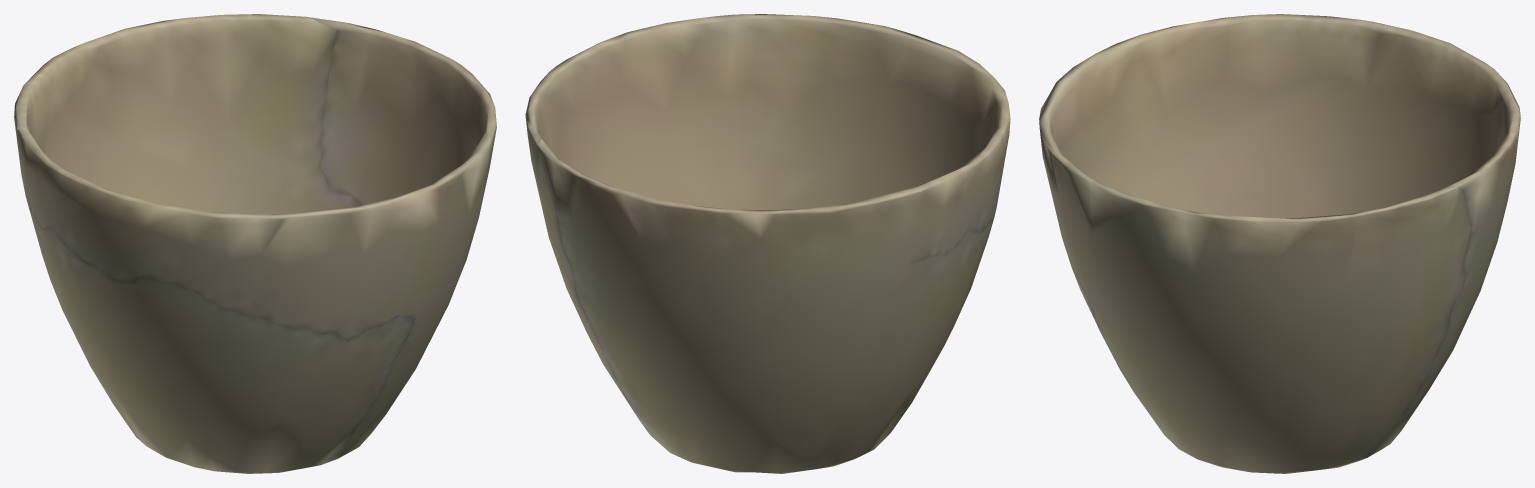
Rendered from Ecoforms_Cup_B4_SAN-medium.glb.
3 renders of one model, left to right at view 1: azimuth 30°, elevation 25°; view 2: azimuth 150°, elevation 25°; view 3: azimuth 270°, elevation 25°, orthographic.
Parts seen in each view (by area): view 1: Ecoforms_Cup_B4_SAN; view 2: Ecoforms_Cup_B4_SAN; view 3: Ecoforms_Cup_B4_SAN.
Part boxes in pixels (x1,y1,x2,y2): Ecoforms_Cup_B4_SAN: (14, 14, 496, 473); Ecoforms_Cup_B4_SAN: (525, 14, 1010, 473); Ecoforms_Cup_B4_SAN: (1039, 14, 1520, 473).
Size of the model in its own units: 0.0997 by 0.0715 by 0.1.
Materials: 1 (1 with a texture image).
